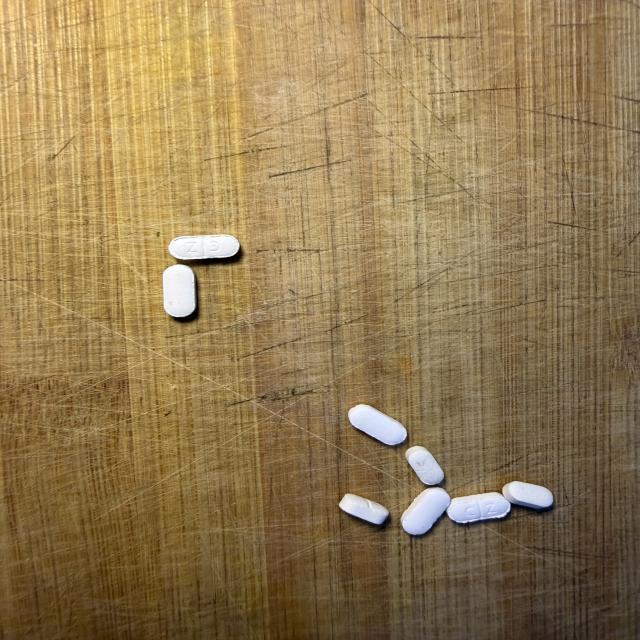pill: (401, 488, 451, 535), (348, 405, 406, 444), (447, 493, 510, 523), (163, 265, 196, 317), (169, 235, 239, 259), (405, 446, 444, 484), (339, 494, 388, 524), (503, 482, 553, 508)
